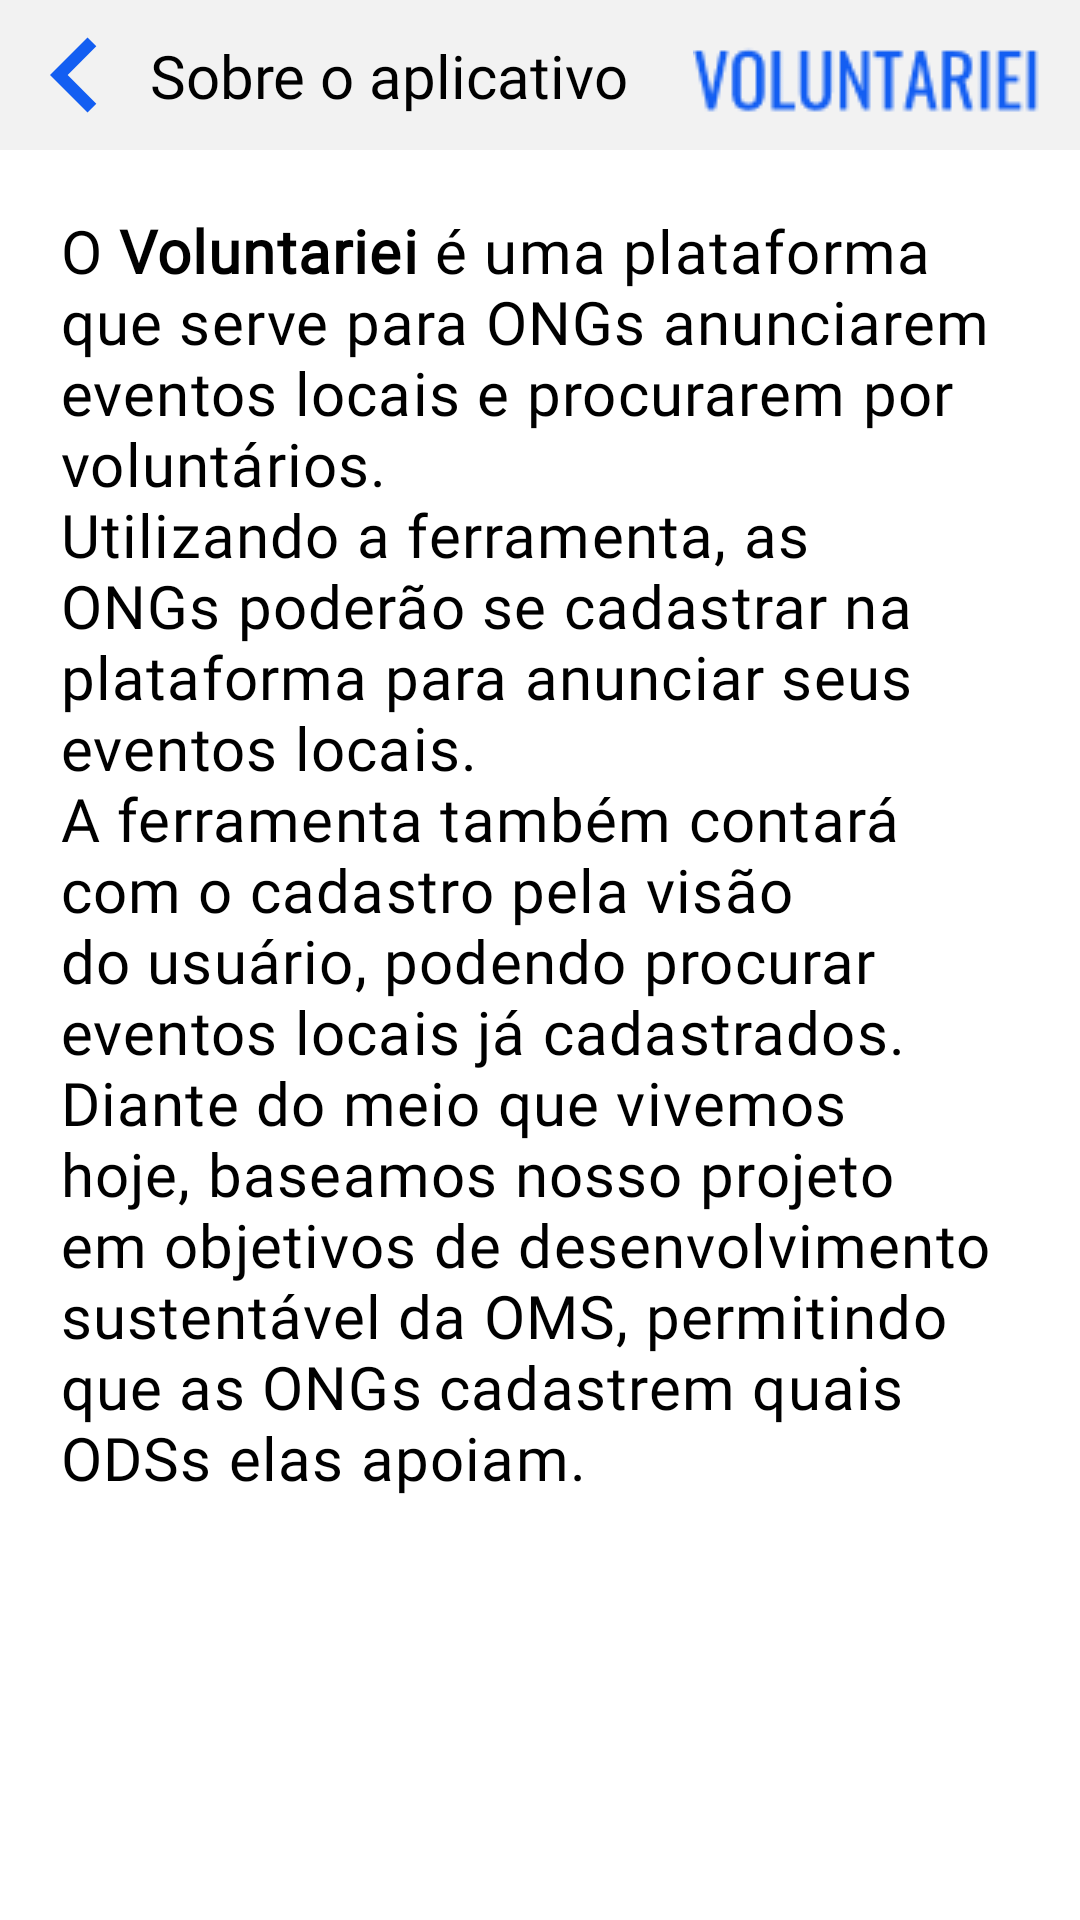

Icons on this 1080px×1920px Android screen, each with its box as (x1, y1, x2, y2):
back: (50, 37, 96, 113)
